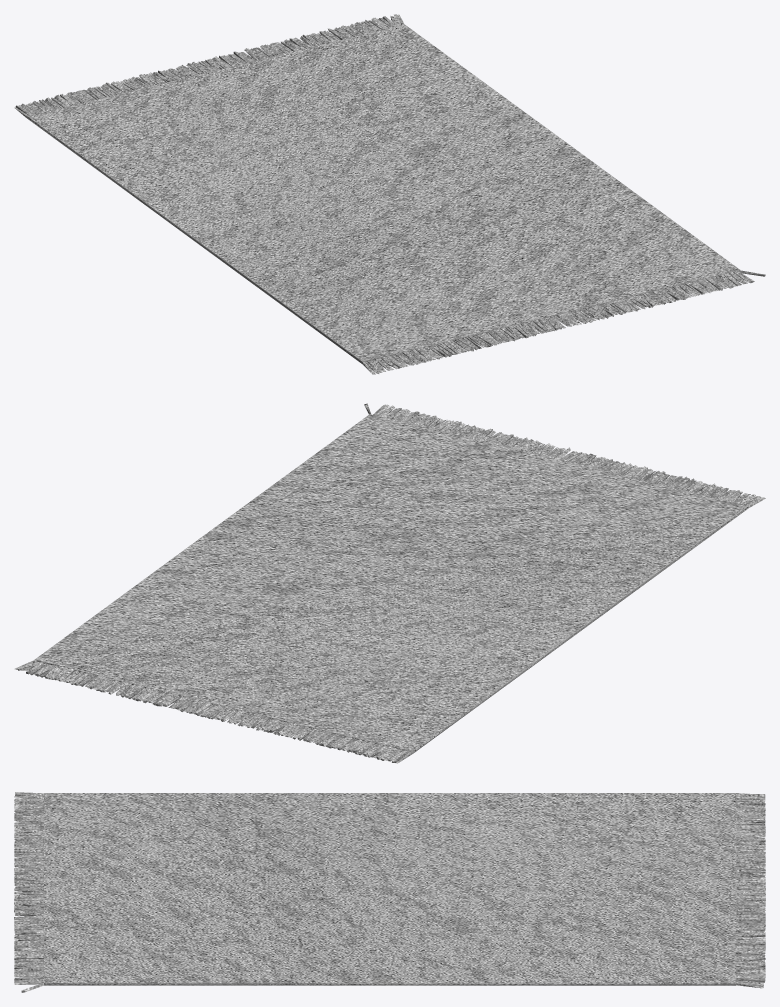
File: rug.obj
3 renders of one model, top to bottom at view 1: azimuth 30°, elevation 25°; view 2: azimuth 150°, elevation 25°; view 3: azimuth 270°, elevation 25°, orthographic. The views are drawn at different scales.
Parts seen in each view (by area): view 1: Rug; view 2: Rug; view 3: Rug.
Boxes of the visible parts, x1,y1,x2,y2 form: Rug: (14, 14, 765, 374); Rug: (14, 403, 765, 763); Rug: (14, 792, 765, 992).
Size of the model in its own units: 158 by 1.82 by 250.
1 material, 1 textured.
